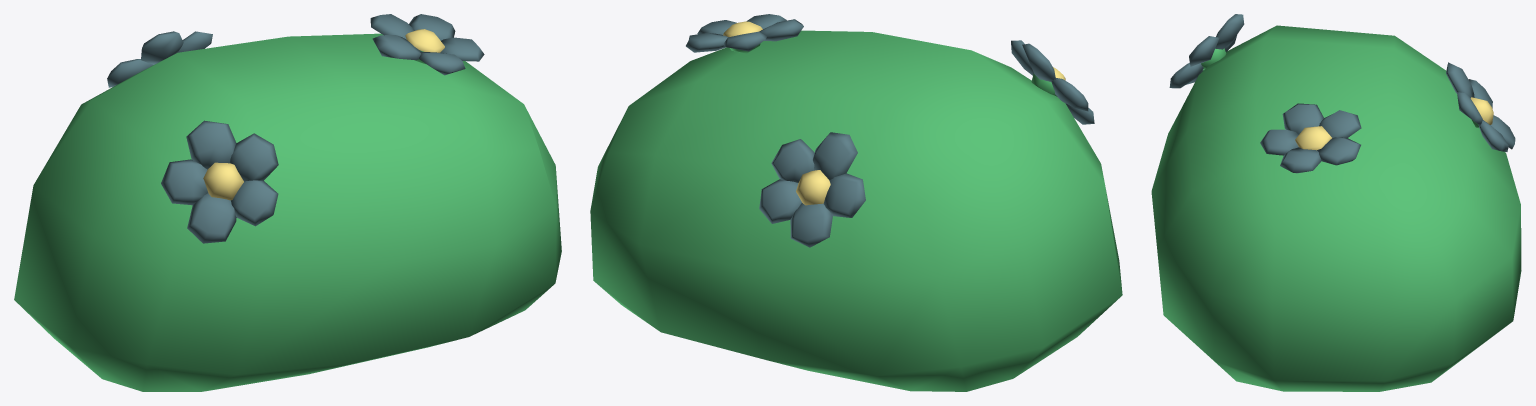
File: FlowerBush_A_02_LOD2.gltf
3 views of the same model, side by side, from view 1: azimuth 30°, elevation 25°; view 2: azimuth 150°, elevation 25°; view 3: azimuth 270°, elevation 25° (orthographic). The views are drawn at different scales.
Visible parts, largest first — view 1: FlowerBush_A_02_LOD2_Cube.723; view 2: FlowerBush_A_02_LOD2_Cube.723; view 3: FlowerBush_A_02_LOD2_Cube.723.
Part boxes in pixels (x1,y1,x2,y2): FlowerBush_A_02_LOD2_Cube.723: (14, 14, 561, 391); FlowerBush_A_02_LOD2_Cube.723: (590, 14, 1122, 391); FlowerBush_A_02_LOD2_Cube.723: (1151, 14, 1521, 391).
Size of the model in its own units: 6.48 by 3.49 by 4.85.
1 material, 1 textured.
